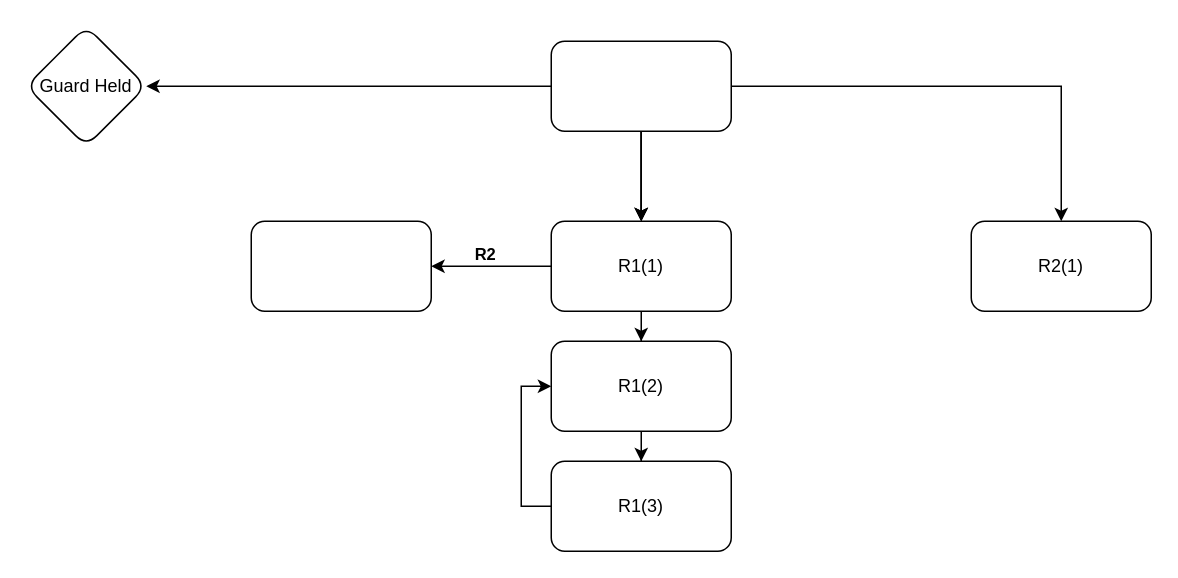
Image size: 1178x578. Some labels were removed from this diagram. The box of each missing label's shape, as (x1, y1, x2, y2) in pixels:
Neutral: (550, 40, 731, 131)
Special 3: (250, 220, 431, 311)
